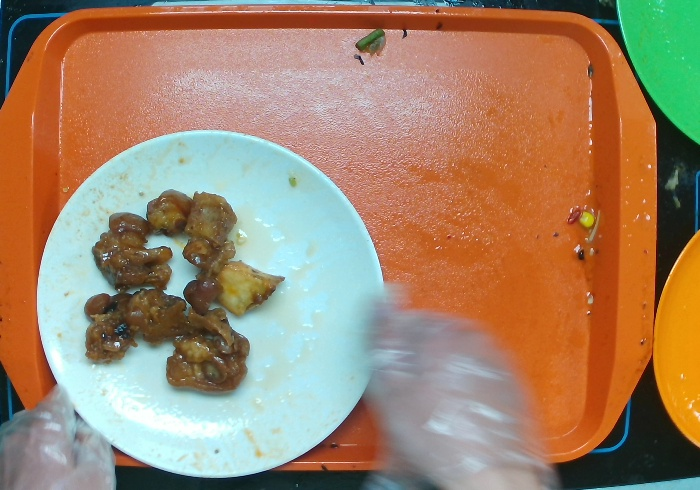HZYJPL-Bai_Se_Yuan_Pan: (34, 128, 384, 481)
